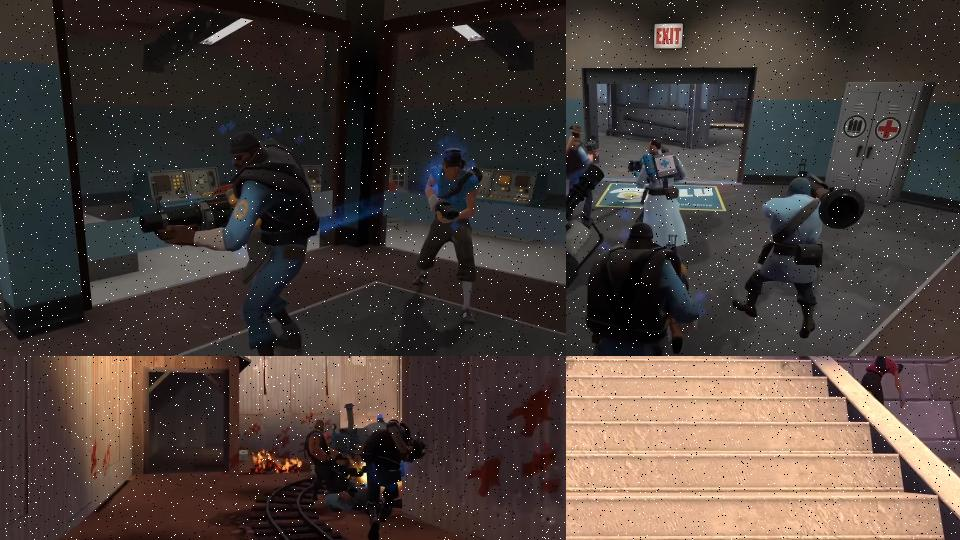Enemy: (136, 126, 321, 356), (731, 157, 867, 340), (583, 222, 701, 356), (410, 144, 488, 328), (358, 413, 425, 540), (628, 136, 688, 254), (301, 419, 357, 501), (566, 123, 602, 226), (852, 356, 911, 404)
